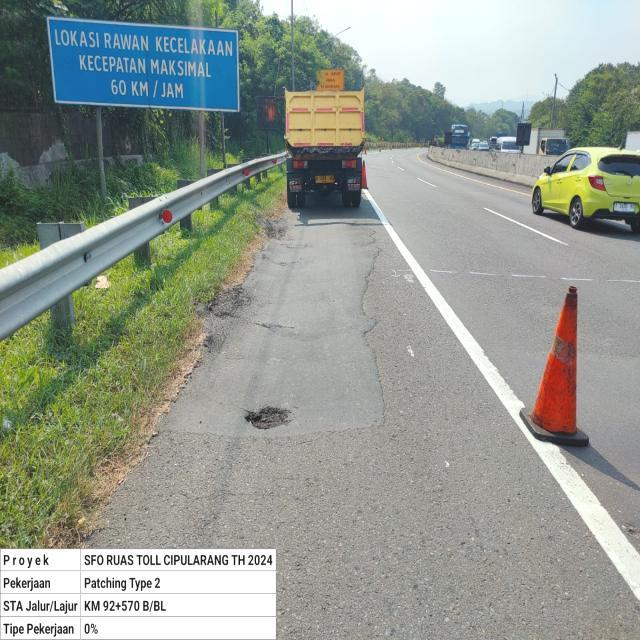Buraco: (242, 404, 294, 432)
